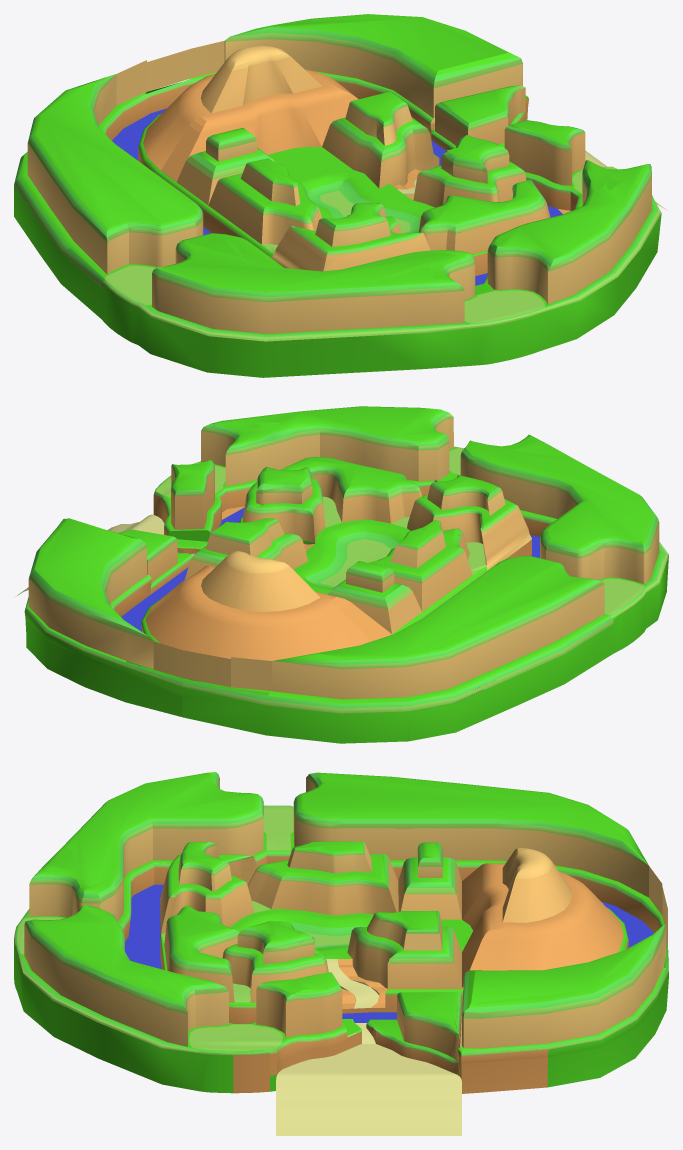
File: GameTerrain 1.fbx
3 views of the same model, one above another, from view 1: azimuth 30°, elevation 25°; view 2: azimuth 150°, elevation 25°; view 3: azimuth 270°, elevation 25° (orthographic). The views are drawn at different scales.
Visible parts, largest first — view 1: Plane.002; view 2: Plane.002; view 3: Plane.002.
Boxes of the visible parts, x1=… form: Plane.002: x1=14, y1=14, x2=667, y2=377; Plane.002: x1=15, y1=406, x2=668, y2=743; Plane.002: x1=14, y1=772, x2=668, y2=1135.
Size of the model in its own units: 24569 by 5801 by 24956.
